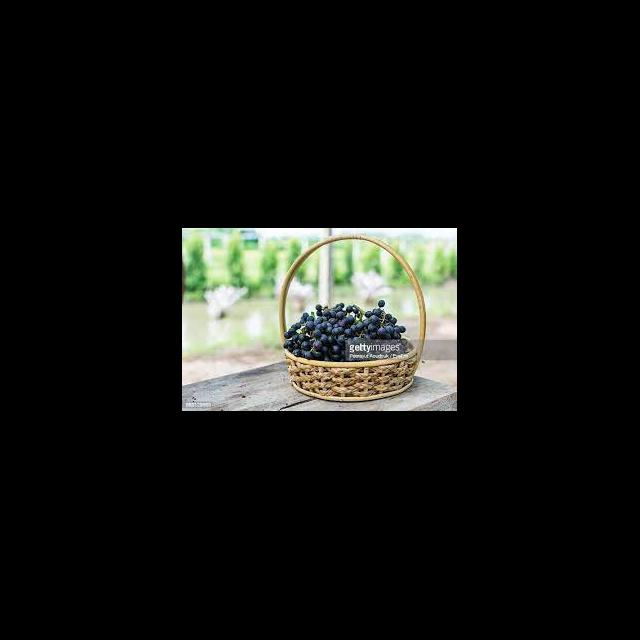grape: (284, 299, 406, 362)
